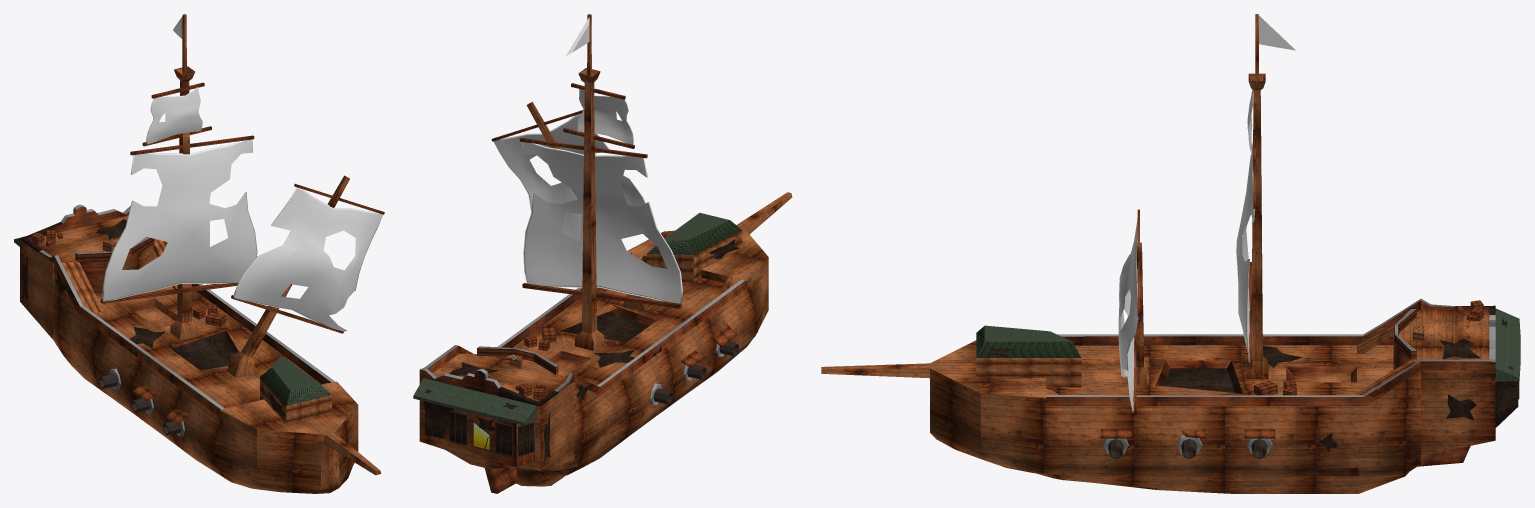
The model's file is PlayerBoat30HP.fbx.
The picture shows the model from 3 angles, left to right: view 1: azimuth 30°, elevation 25°; view 2: azimuth 150°, elevation 25°; view 3: azimuth 270°, elevation 25°; orthographic projection. The views are drawn at different scales.
Visible parts, largest first — view 1: pCube1, pCube17, pCube21, pCube27, pCube28, pCube2, pCube16, pCube4, pCube19, pCube20, pPlane12; view 2: pCube1, pCube17, pCube21, pCube27, pCube28, pCube16, pCube4, pCube6, pCube19, pCube39, pCube44, pPlane12; view 3: pCube1, pCube27, pCube21, pCube17.
Part boxes in pixels (x1=…): pCube1: x1=14, y1=14, x2=381, y2=493; pCube17: x1=102, y1=139, x2=257, y2=301; pCube21: x1=233, y1=187, x2=382, y2=333; pCube27: x1=260, y1=355, x2=331, y2=423; pCube28: x1=146, y1=87, x2=202, y2=144; pCube2: x1=61, y1=261, x2=103, y2=313; pCube16: x1=100, y1=283, x2=238, y2=303; pCube4: x1=75, y1=237, x2=154, y2=262; pCube19: x1=130, y1=135, x2=254, y2=155; pCube20: x1=231, y1=295, x2=343, y2=333; pPlane12: x1=129, y1=327, x2=165, y2=347; pCube1: x1=413, y1=14, x2=792, y2=486; pCube17: x1=521, y1=142, x2=682, y2=303; pCube21: x1=493, y1=113, x2=645, y2=241; pCube27: x1=647, y1=213, x2=742, y2=281; pCube28: x1=577, y1=89, x2=633, y2=144; pCube16: x1=522, y1=283, x2=681, y2=308; pCube4: x1=477, y1=346, x2=558, y2=374; pCube6: x1=484, y1=467, x2=520, y2=493; pCube19: x1=519, y1=138, x2=647, y2=158; pCube39: x1=450, y1=412, x2=466, y2=443; pCube44: x1=496, y1=423, x2=511, y2=455; pPlane12: x1=594, y1=350, x2=634, y2=367; pCube1: x1=821, y1=14, x2=1520, y2=493; pCube27: x1=976, y1=325, x2=1081, y2=387; pCube21: x1=1118, y1=217, x2=1138, y2=412; pCube17: x1=1236, y1=141, x2=1254, y2=362.
Size of the model in its own units: 7.99 by 13.87 by 18.43.
